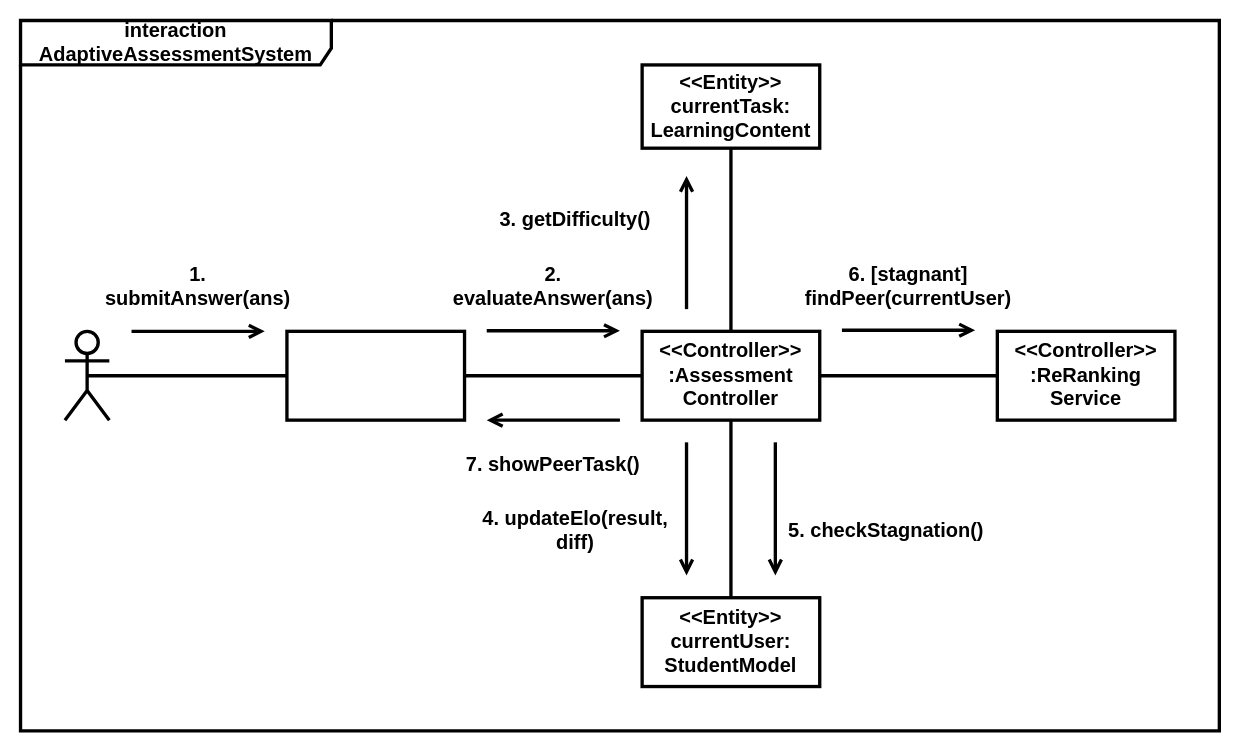
This 1240x751 diagram has some shape labels left out. The box of each missing label's shape, as (x1, y1, x2, y2) in pixels:
<<Boundary>> :Learning Interface: (285, 329, 466, 421)
Siswa: (63, 329, 110, 421)
